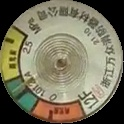green: (4, 74, 40, 113)
needle: (11, 74, 40, 97)
red: (32, 97, 89, 124)
yellow: (1, 26, 27, 83)
